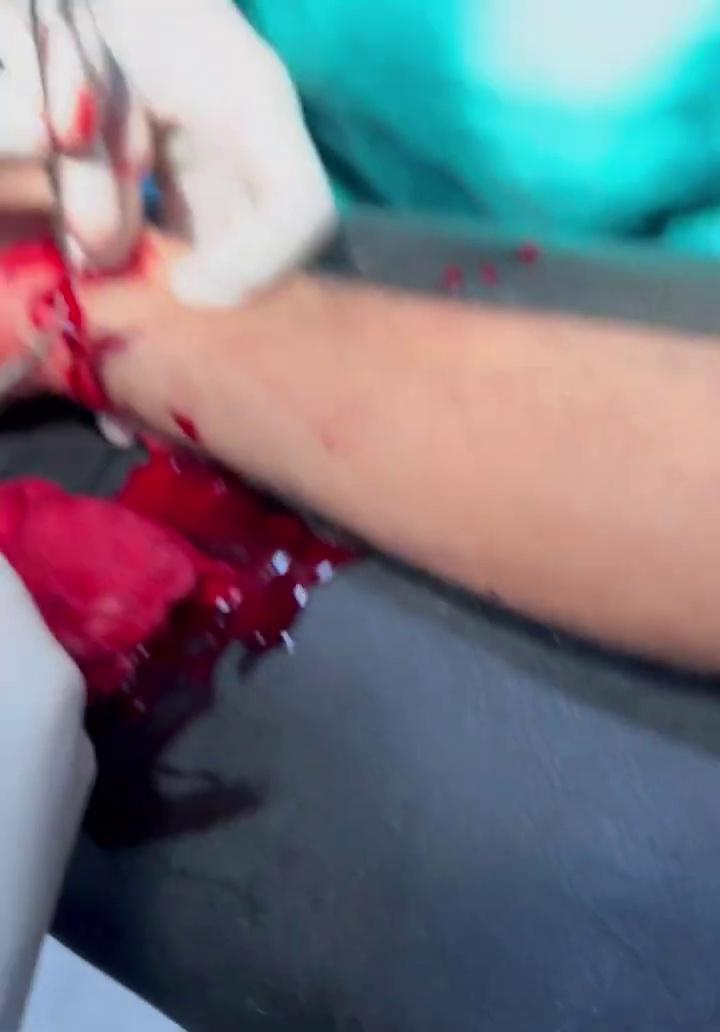Fire: (0, 434, 361, 844), (1, 241, 118, 412)
